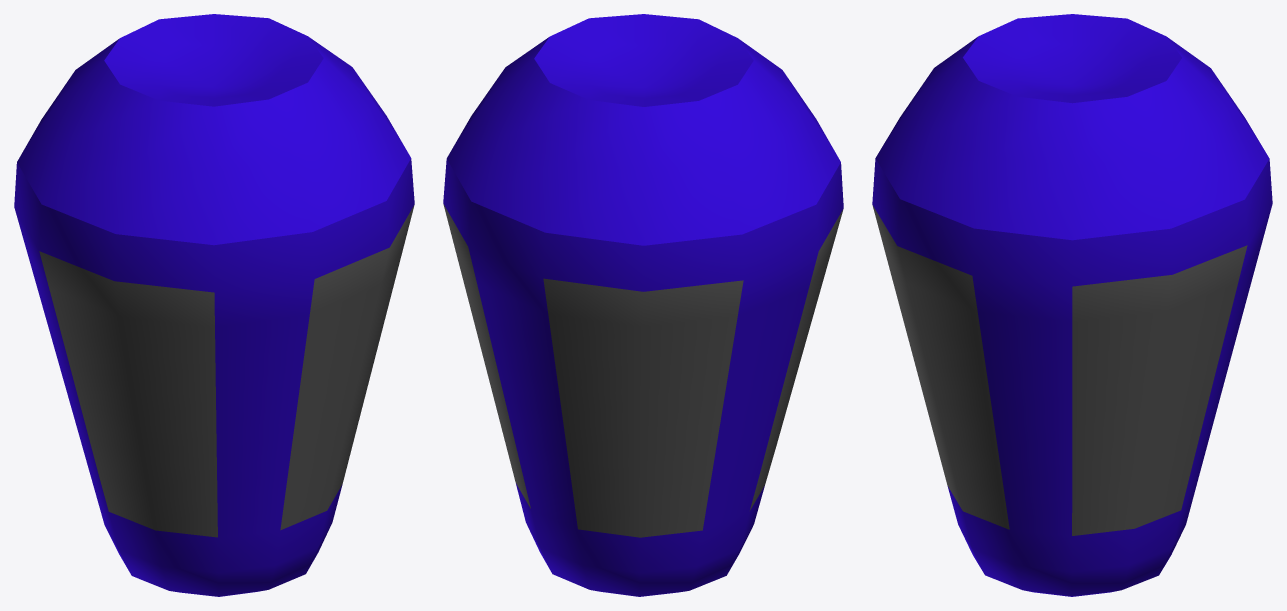
Rendered from StreetLamp.fbx.
3 renders of one model, left to right at view 1: azimuth 30°, elevation 25°; view 2: azimuth 150°, elevation 25°; view 3: azimuth 270°, elevation 25°, orthographic.
Parts seen in each view (by area): view 1: Cylinder003; view 2: Cylinder003; view 3: Cylinder003.
Boxes of the visible parts, bbox=[...] form: Cylinder003: bbox=[14, 14, 414, 596]; Cylinder003: bbox=[443, 14, 843, 596]; Cylinder003: bbox=[872, 14, 1272, 596].
Size of the model in its own units: 14.23 by 19.68 by 14.09.
